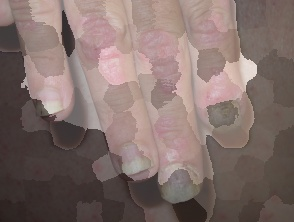Nail_psoriasis: (192, 65, 263, 146), (148, 148, 214, 214), (111, 137, 159, 181), (32, 82, 67, 119)
